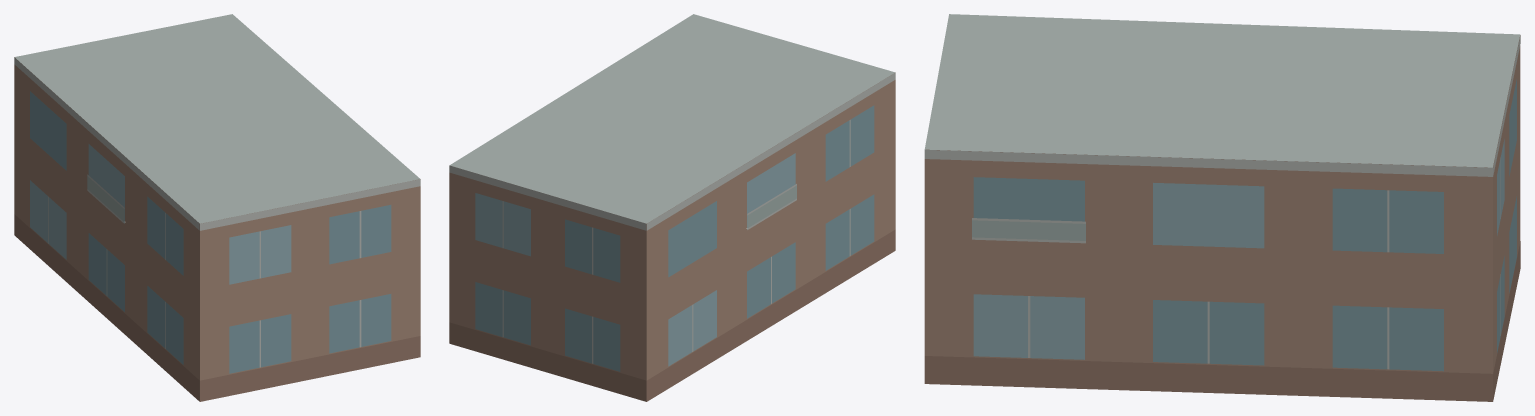
Rendered from survey-upis-32908561.glb.
The picture shows the model from 3 angles, left to right: view 1: azimuth 30°, elevation 25°; view 2: azimuth 150°, elevation 25°; view 3: azimuth 270°, elevation 25°; orthographic projection. The views are drawn at different scales.
Visible parts, largest first — view 1: survey-upis-32908561.tmp; view 2: survey-upis-32908561.tmp; view 3: survey-upis-32908561.tmp.
Part boxes in pixels (bbox=[...]): survey-upis-32908561.tmp: bbox=[14, 14, 420, 401]; survey-upis-32908561.tmp: bbox=[449, 14, 895, 401]; survey-upis-32908561.tmp: bbox=[924, 14, 1520, 401].
Size of the model in its own units: 8.59 by 6.1 by 14.07.
